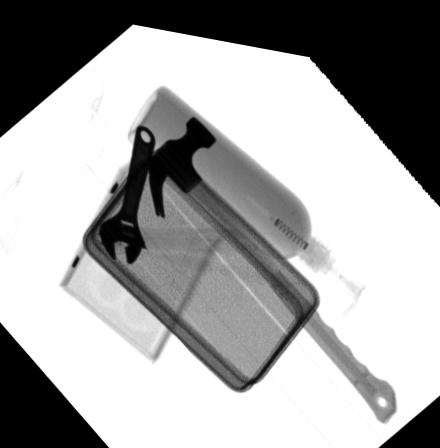Hammer: (146, 108, 395, 406)
Wrench: (96, 118, 155, 256)
